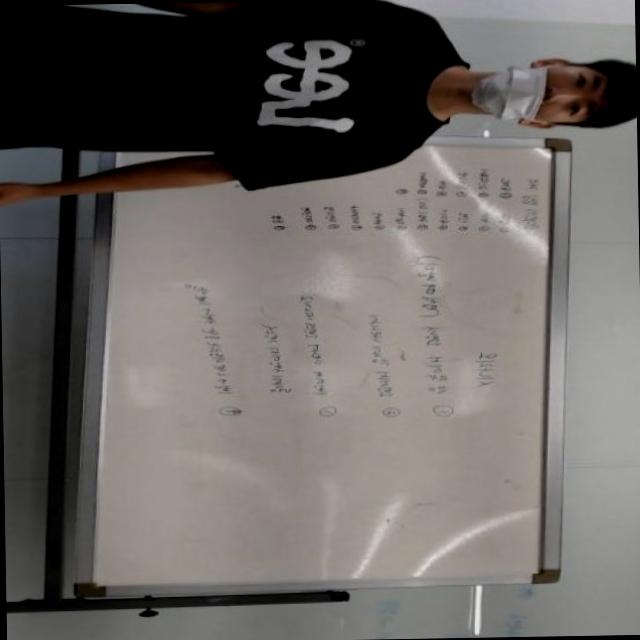Instructor: (78, 6, 634, 181)
White-board: (81, 136, 564, 588)
